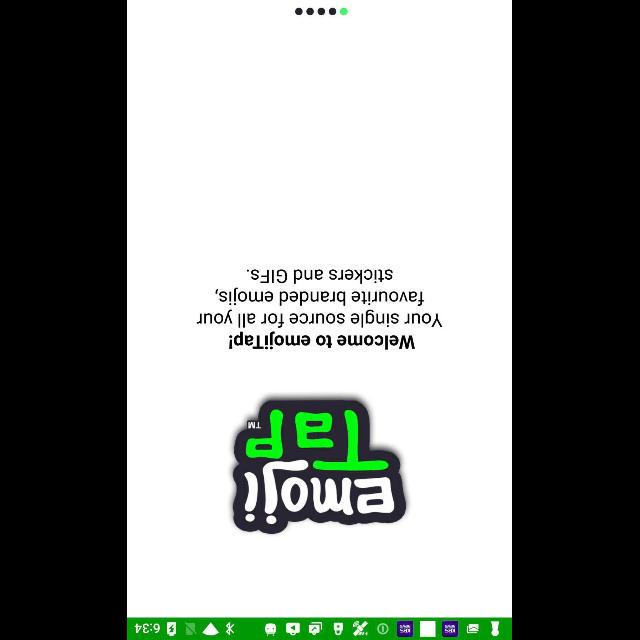image: (233, 400, 407, 534)
pageindicator: (296, 7, 348, 15)
text: (197, 268, 443, 328), (230, 332, 416, 350)
uppertaskbar: (128, 617, 512, 639)
